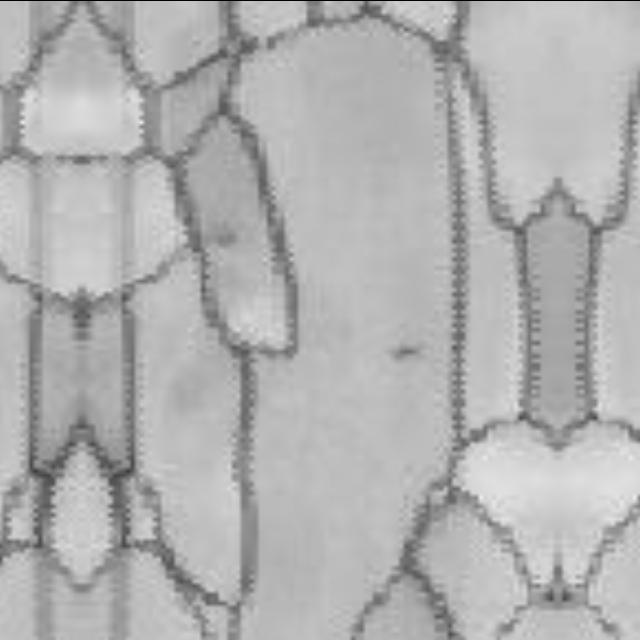good_void: (389, 342, 424, 359)
